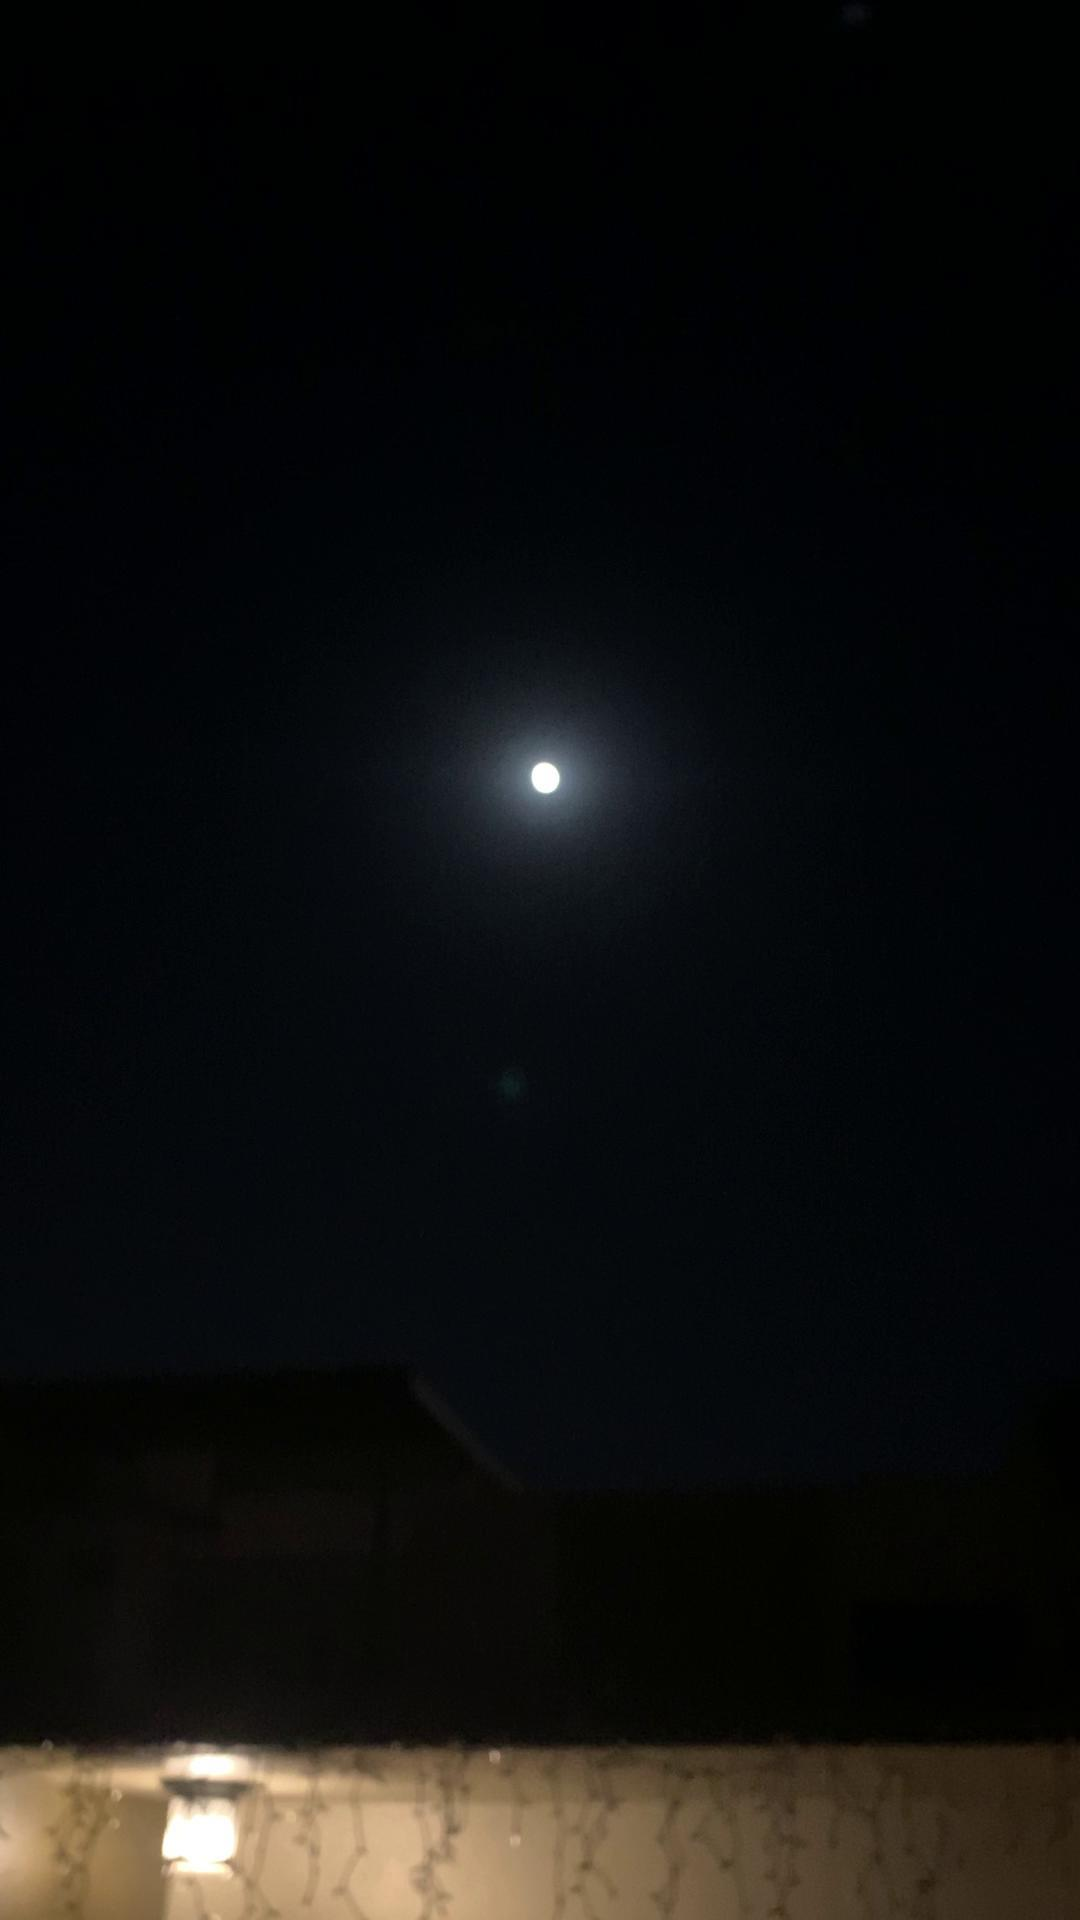moon: (505, 749, 592, 844)
